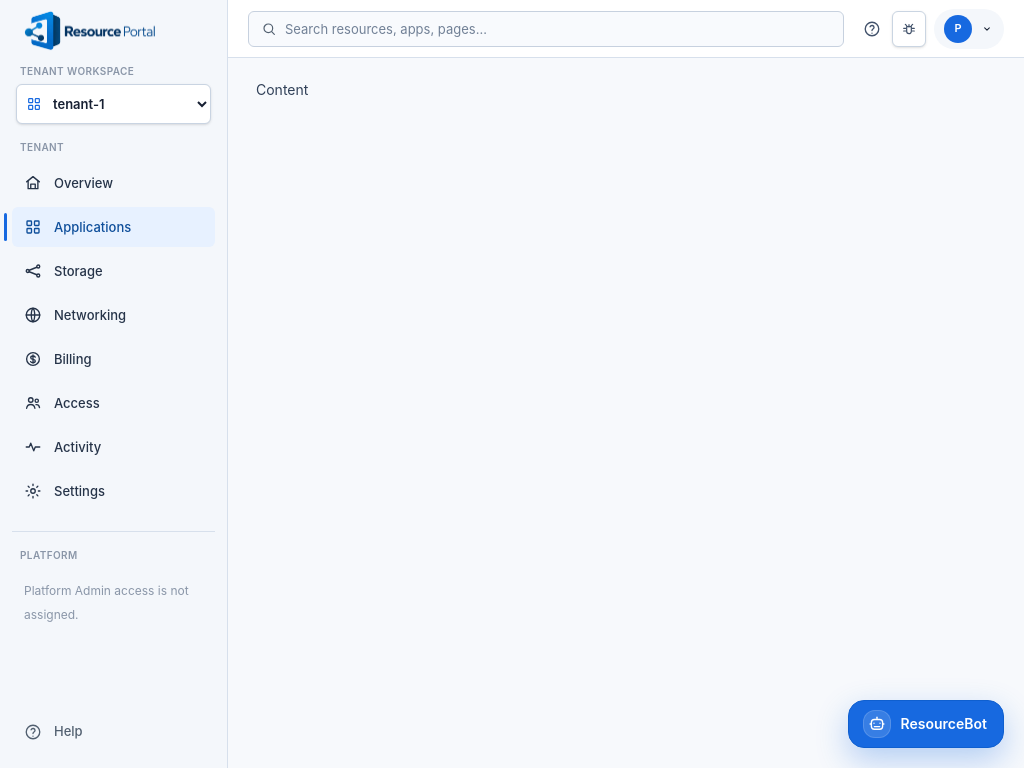
Test: AppShell › searches tenant resources through one backend request
Type "checkout" into the dropdown labelled "Search resources". click: (554, 28)
box: [277,12,831,46]
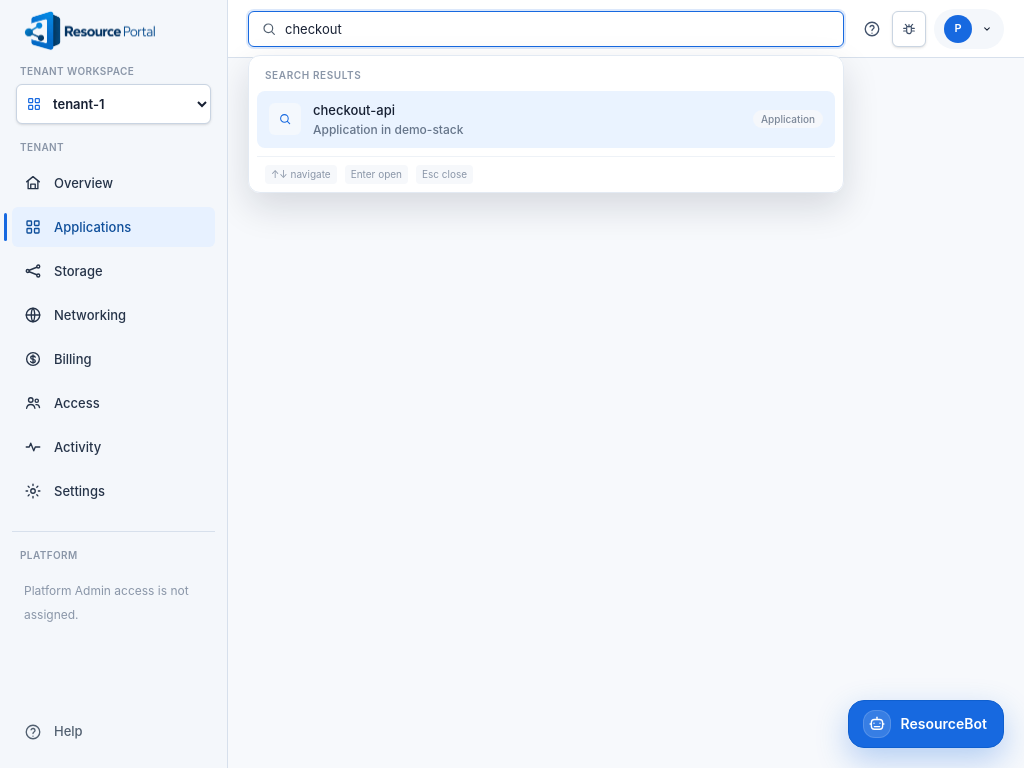
Expected: the text "checkout-api" is shown, [313,102,395,118]
Expected: the text "Application in demo-stack" is shown, [313,122,464,137]
